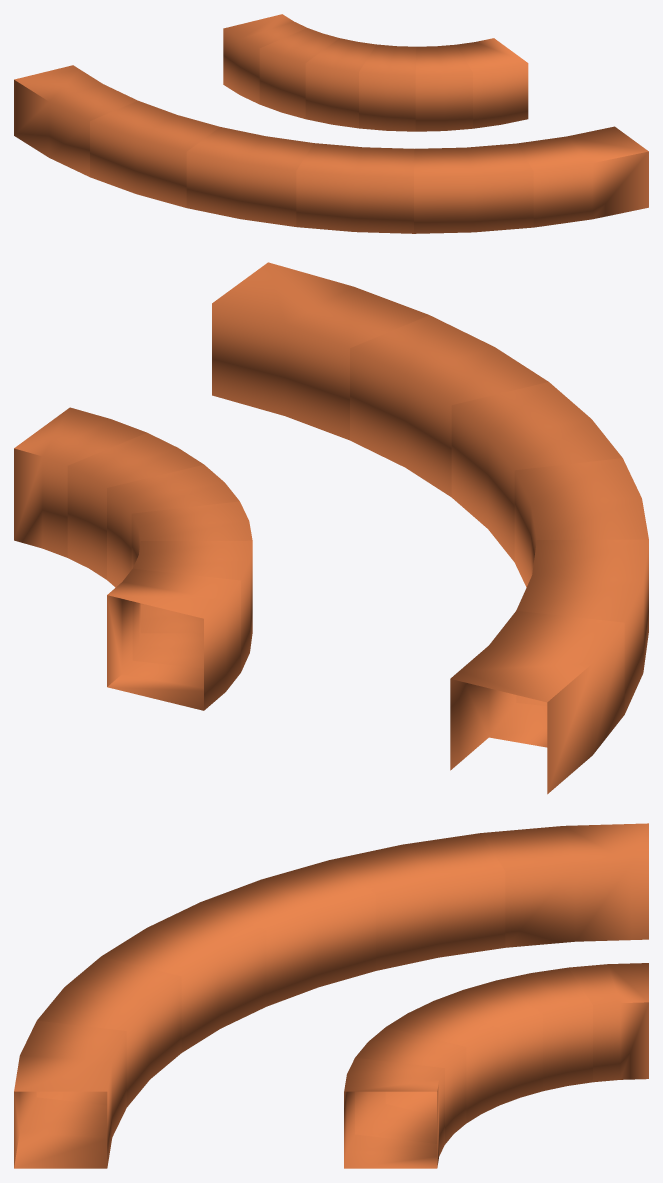
The model's file is MediumLeftSand.fbx.
3 renders of one model, top to bottom at view 1: azimuth 30°, elevation 25°; view 2: azimuth 150°, elevation 25°; view 3: azimuth 270°, elevation 25°, orthographic. The views are drawn at different scales.
Parts seen in each view (by area): view 1: sand.011, sand.012, sand.010, sand.009, sand.008, sand.007, sand.002, sand.003, sand.001, sand.004, sand.005, sand.006; view 2: sand.012, sand.007, sand.011, sand.010, sand.006, sand.008, sand.009, sand.001, sand.002, sand.005, sand.003, sand.004; view 3: sand.007, sand.008, sand.009, sand.012, sand.010, sand.011, sand.002, sand.006, sand.001, sand.005, sand.003, sand.004.
Part boxes in pixels (box(x1,y1,x2,y2)): sand.011: box(414, 143, 533, 233); sand.012: box(516, 126, 648, 227); sand.010: box(296, 143, 414, 233); sand.009: box(186, 127, 313, 226); sand.008: box(90, 100, 219, 207); sand.007: box(14, 65, 137, 176); sand.002: box(415, 44, 472, 131); sand.003: box(359, 44, 416, 131); sand.001: box(456, 38, 528, 128); sand.004: box(305, 38, 376, 128); sand.005: box(259, 28, 338, 118); sand.006: box(223, 14, 306, 104); sand.012: box(212, 262, 429, 440); sand.007: box(450, 610, 624, 794); sand.011: box(350, 315, 548, 497); sand.010: box(451, 382, 622, 561); sand.006: box(107, 568, 240, 710); sand.008: box(516, 539, 648, 714); sand.009: box(514, 458, 648, 587); sand.001: box(14, 407, 146, 557); sand.002: box(67, 432, 203, 579); sand.005: box(132, 540, 252, 671); sand.003: box(107, 464, 239, 604); sand.004: box(131, 501, 252, 633); sand.007: box(480, 823, 648, 947); sand.008: box(329, 833, 505, 970); sand.009: box(200, 860, 375, 1006); sand.012: box(14, 1020, 126, 1168); sand.010: box(101, 902, 266, 1052); sand.011: box(36, 956, 181, 1107); sand.002: box(355, 1027, 466, 1144); sand.006: box(568, 963, 648, 1082); sand.001: box(344, 1057, 444, 1168); sand.005: box(496, 967, 592, 1091); sand.003: box(385, 1001, 499, 1123); sand.004: box(434, 980, 542, 1104).
Bounding box in the file's own units: 1500 × 200 × 1500.
